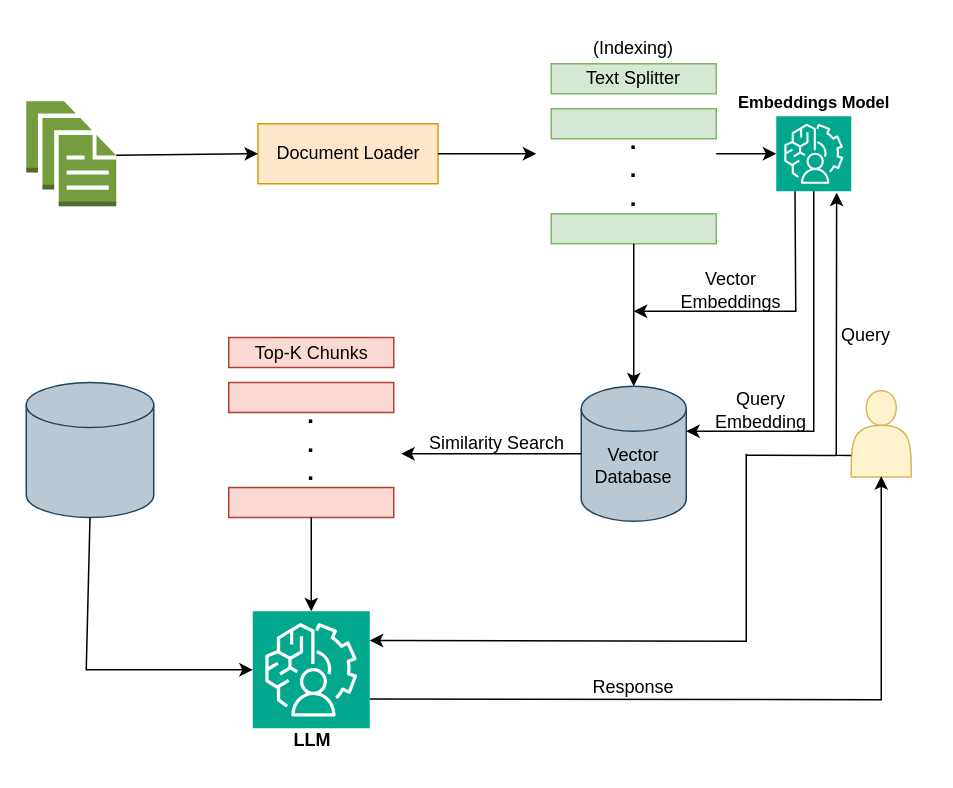
The diagram is 953 pixels wide and 788 high, and some of its shapes have lost their labels. The shapes that lost their labels are listed below. From the top down, each one's box as (x1, y1, x2, y2) in pixels, then its label:
(25, 381, 154, 518): Chat Memory Database
(850, 389, 911, 477): User
